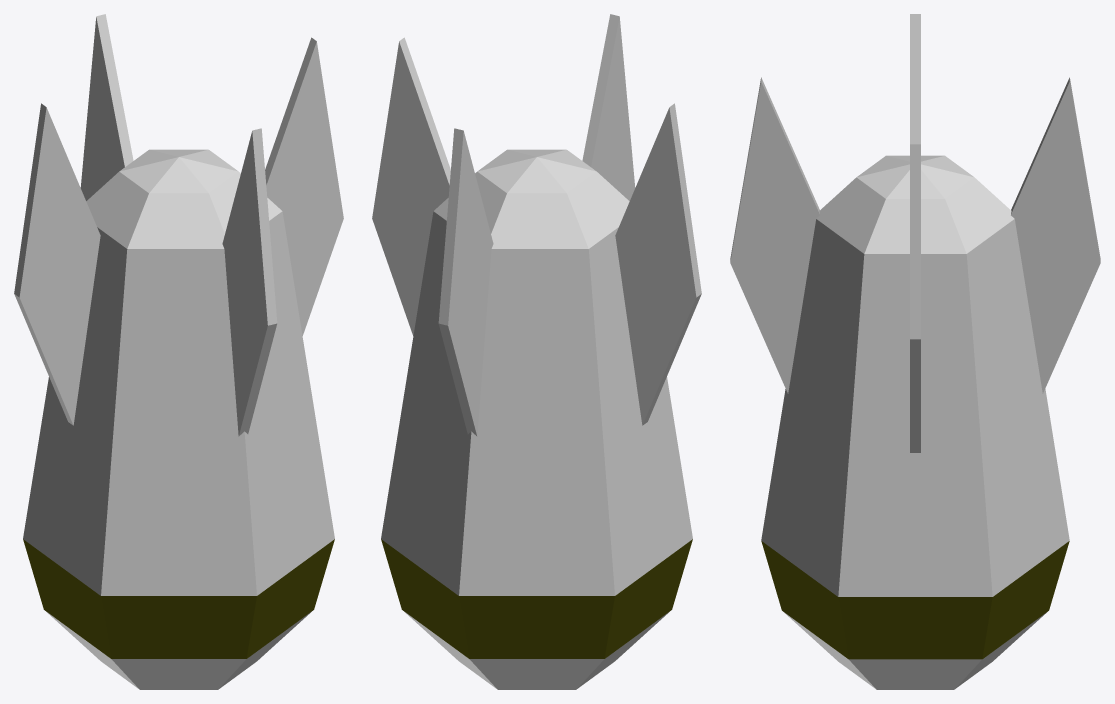
File: democracy.fbx
The picture shows the model from 3 angles, left to right: view 1: azimuth 30°, elevation 25°; view 2: azimuth 150°, elevation 25°; view 3: azimuth 270°, elevation 25°; orthographic projection.
Visible parts, largest first — view 1: Plane; view 2: Plane; view 3: Plane.
Part boxes in pixels (box(x1,y1,x2,y2)): Plane: box(14, 14, 343, 689); Plane: box(372, 14, 701, 689); Plane: box(730, 14, 1100, 689).
Size of the model in its own units: 240 by 430 by 240.
